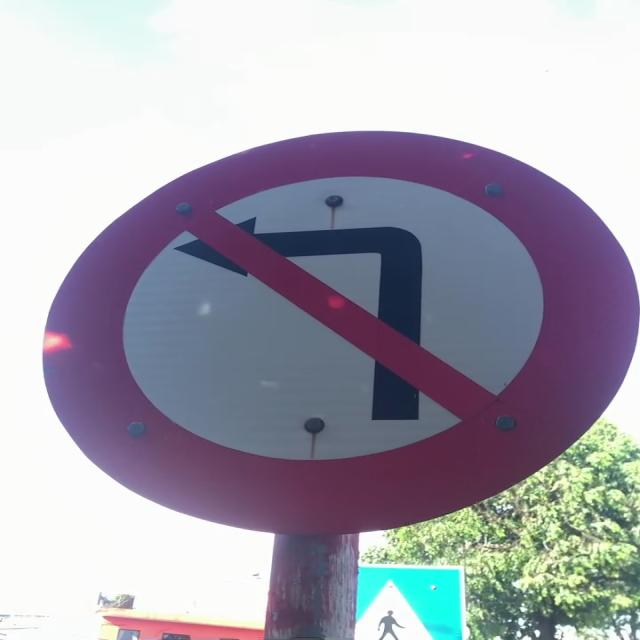Cam_Re_Trai: (57, 128, 638, 543)
